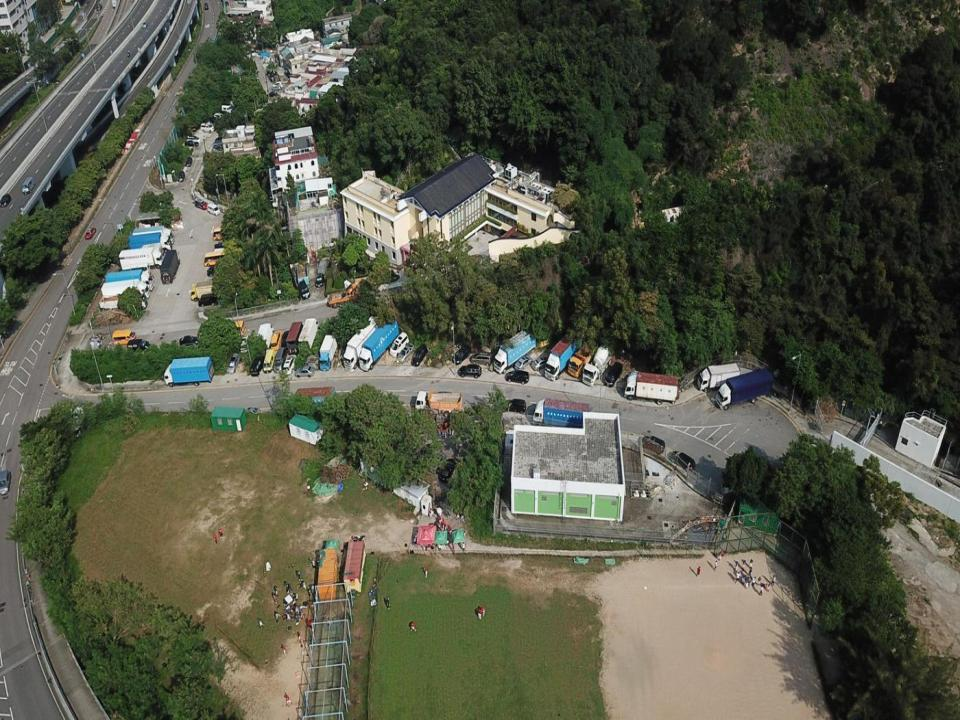bus: (120, 261, 152, 280), (203, 250, 229, 267), (213, 227, 233, 240)
car: (670, 449, 696, 472), (640, 435, 666, 455), (604, 361, 623, 388), (390, 332, 410, 357), (411, 344, 428, 368), (452, 344, 472, 364), (126, 338, 151, 354), (506, 369, 530, 385), (250, 354, 266, 378), (396, 342, 415, 362), (504, 398, 526, 414), (226, 352, 242, 374), (459, 364, 482, 378), (514, 355, 534, 371), (282, 354, 297, 375), (178, 335, 202, 348), (531, 355, 550, 371), (198, 292, 218, 307), (239, 332, 252, 354), (298, 280, 312, 300), (0, 470, 11, 495), (294, 364, 314, 377), (206, 264, 224, 278), (280, 329, 291, 351), (0, 191, 12, 208), (213, 243, 230, 254), (194, 197, 208, 210), (212, 248, 230, 258), (314, 272, 325, 288), (218, 237, 233, 248), (84, 226, 96, 239), (186, 134, 201, 144), (212, 138, 225, 149), (184, 139, 199, 148), (208, 116, 221, 126), (213, 112, 226, 122), (177, 170, 186, 183), (266, 90, 278, 99), (184, 156, 192, 168), (272, 80, 283, 88), (268, 72, 276, 82), (271, 85, 282, 92), (96, 2, 102, 12), (141, 21, 148, 28), (204, 2, 209, 11)
truck: (715, 366, 774, 410), (358, 316, 400, 372), (342, 315, 382, 372), (493, 329, 536, 374), (623, 371, 678, 406), (532, 397, 589, 430), (545, 332, 582, 381), (162, 357, 214, 388), (582, 341, 612, 387), (413, 390, 462, 418), (697, 363, 741, 392), (567, 340, 599, 378), (101, 278, 151, 302), (105, 268, 154, 292), (119, 247, 164, 273), (328, 282, 373, 308), (129, 232, 173, 255), (99, 293, 148, 310), (132, 226, 174, 245), (285, 321, 307, 356), (318, 333, 338, 371), (298, 318, 320, 351), (160, 249, 180, 285), (190, 280, 221, 302), (256, 322, 275, 350), (136, 242, 164, 261)
van: (112, 330, 138, 346), (222, 319, 246, 336), (273, 347, 287, 374), (470, 351, 493, 366), (263, 349, 276, 374), (270, 329, 283, 351), (22, 176, 36, 195), (207, 202, 221, 216), (200, 122, 214, 134), (220, 103, 234, 114)
